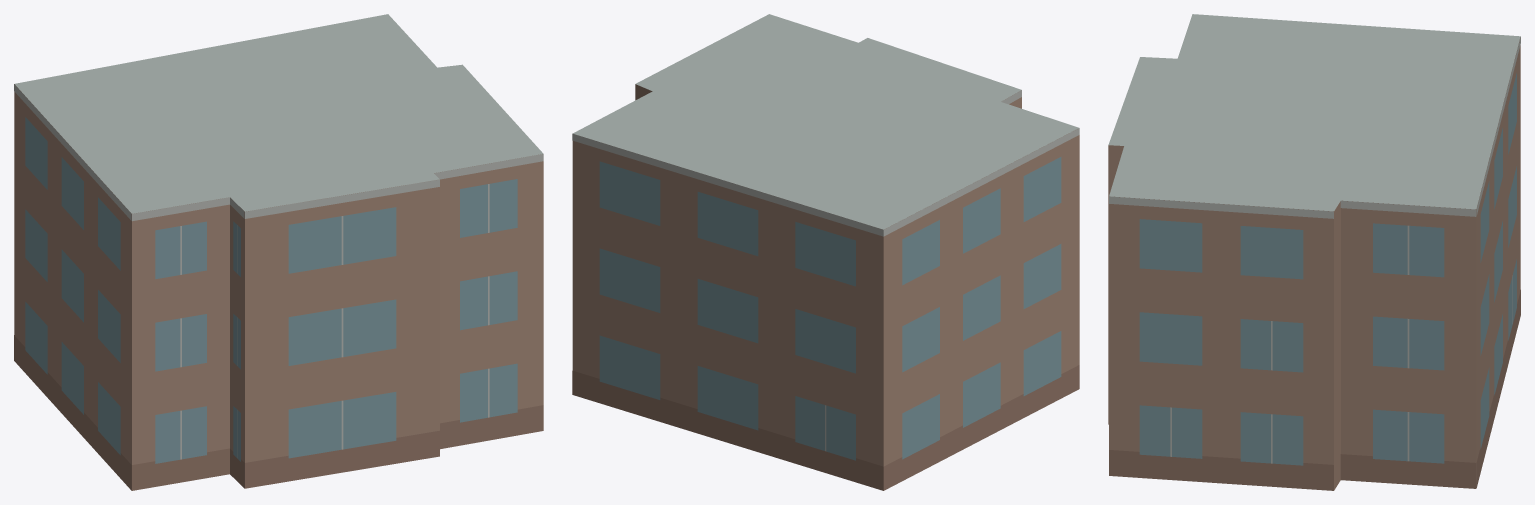
Rendered from survey-upis-32587951.glb.
3 renders of one model, left to right at view 1: azimuth 30°, elevation 25°; view 2: azimuth 150°, elevation 25°; view 3: azimuth 270°, elevation 25°, orthographic. The views are drawn at different scales.
Parts seen in each view (by area): view 1: survey-upis-32587951.tmp; view 2: survey-upis-32587951.tmp; view 3: survey-upis-32587951.tmp.
Boxes of the visible parts, x1,y1,x2,y2 form: survey-upis-32587951.tmp: (14, 14, 543, 490); survey-upis-32587951.tmp: (572, 14, 1079, 490); survey-upis-32587951.tmp: (1108, 14, 1520, 490).
Size of the model in its own units: 13.87 by 9.15 by 12.25.
